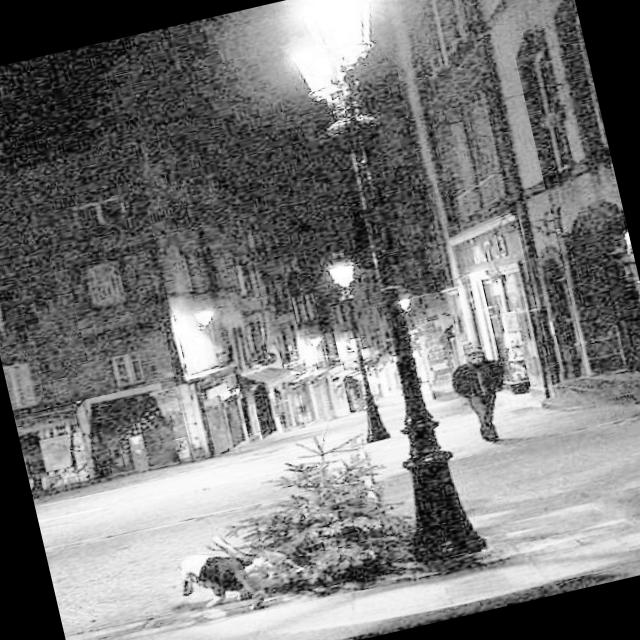Dog: (112, 504, 335, 630)
